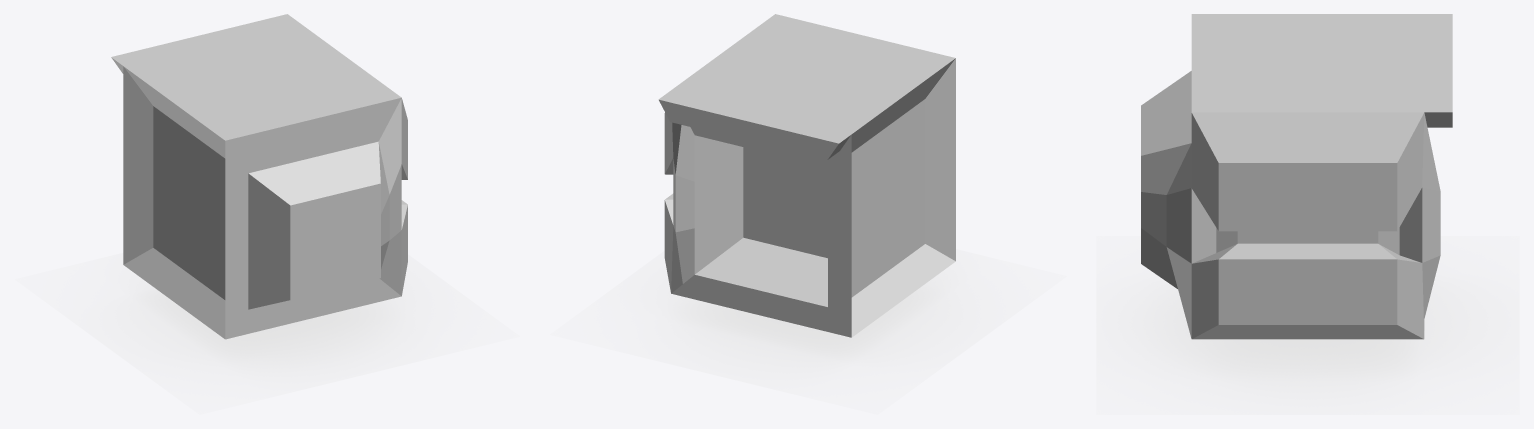
Rendered from TestCube5.gltf.
3 views of the same model, side by side, from view 1: azimuth 30°, elevation 25°; view 2: azimuth 150°, elevation 25°; view 3: azimuth 270°, elevation 25° (orthographic). The views are drawn at different scales.
Visible parts, largest first — view 1: Cube, Plane; view 2: Cube, Plane; view 3: Cube, Plane.
Boxes of the visible parts, x1,y1,x2,y2 form: Cube: (111, 14, 407, 339); Plane: (36, 253, 504, 407); Cube: (658, 14, 955, 337); Plane: (573, 249, 1053, 406); Cube: (1141, 14, 1452, 339); Plane: (1096, 236, 1519, 414).
Bounding box in the file's own units: 3.64 × 2.46 × 3.64.
Materials: 2 (1 with a texture image).
